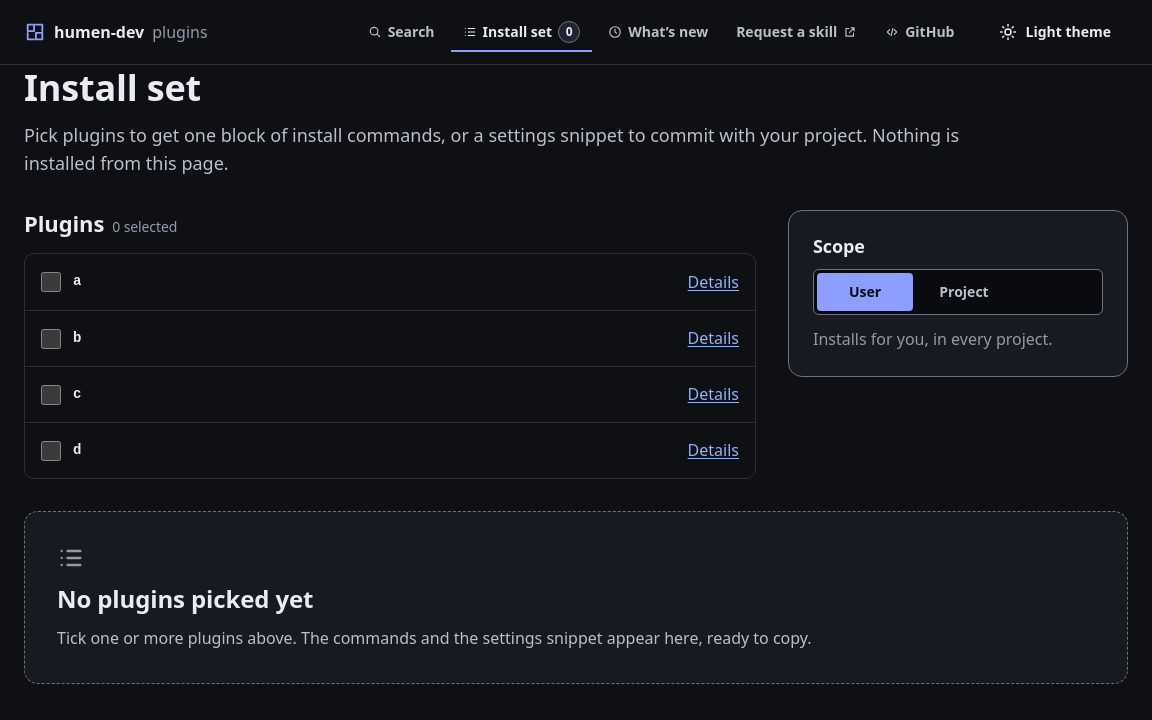
InstallPage › ticking A checks B and C as dependencies and the header pill shows 3 (AC-38a)
The image size is (1152, 720).
Click the checkbox labelled "a" at (51, 282), box [41,272,61,292]
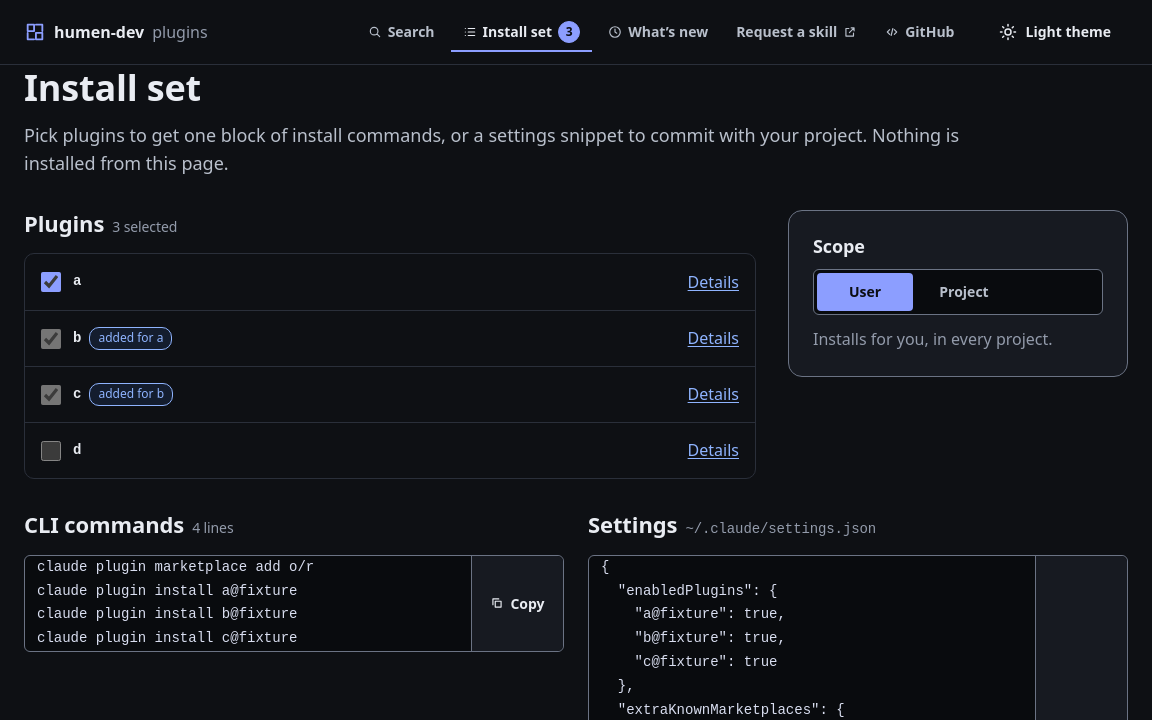
Expected: the text with class "count-pill" reads "3", [566,23,573,40]
